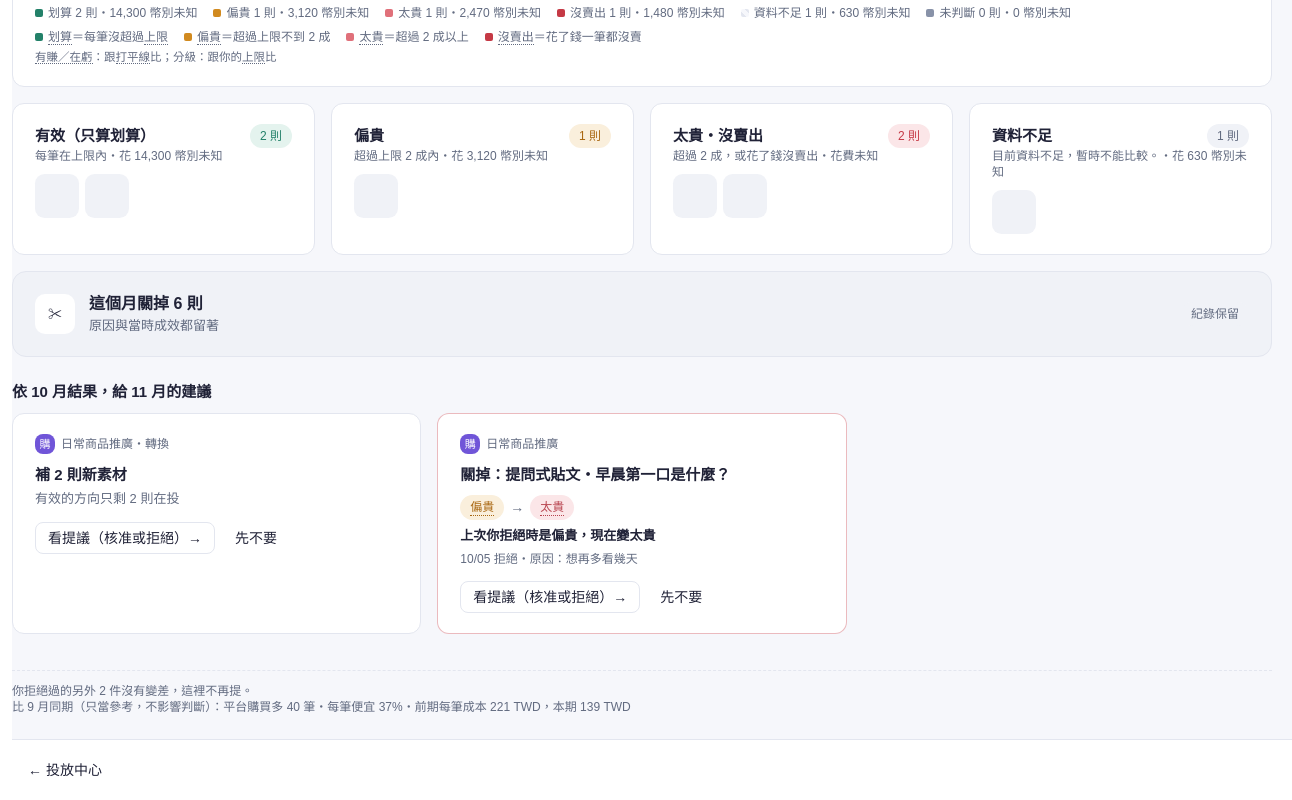
Test: MonthReviewPage — current month › a failed 先不要 on a rejected card keeps the card and says so
(page scrolled)
Click the button "先不要" below "10/05".
click(681, 598)  # box top-left (648, 582), bottom-right (714, 614)
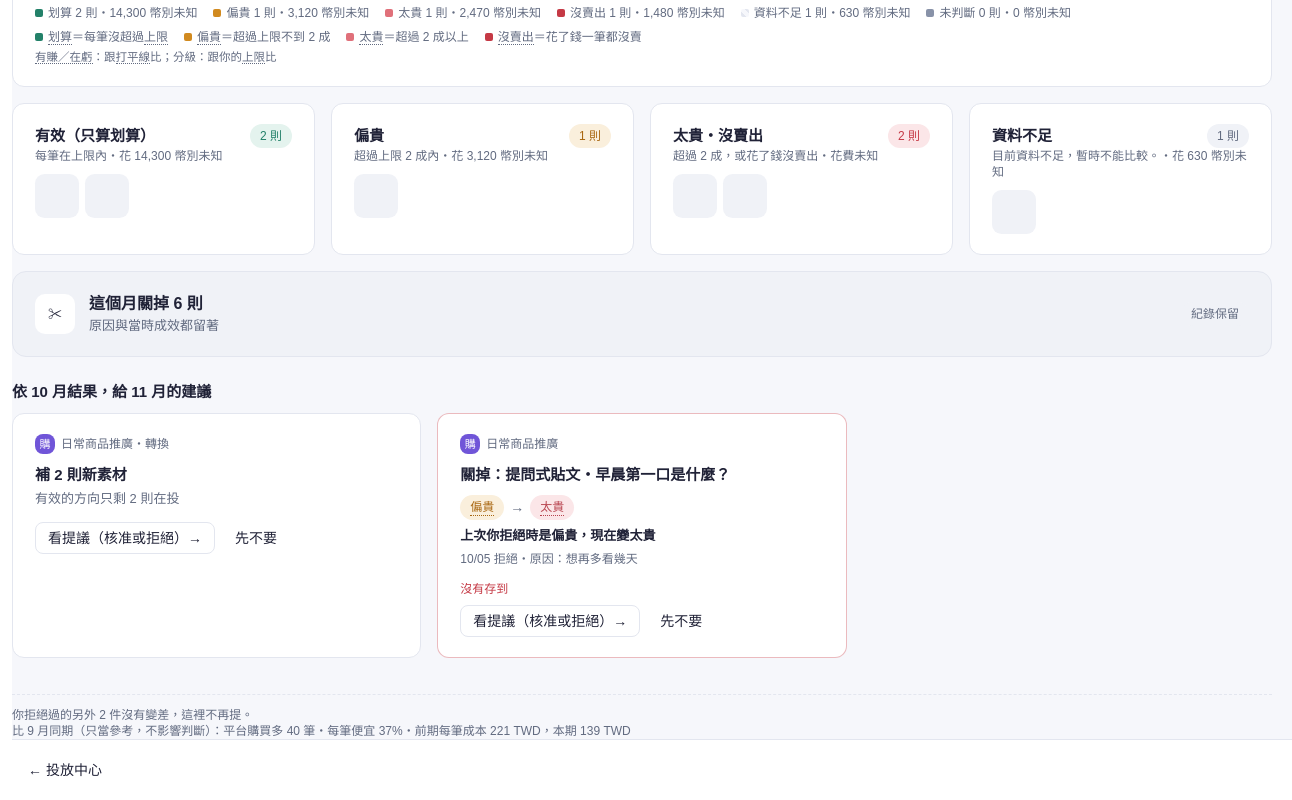
Check: the element "關掉：提問式貼文・早晨第一口是什麼？" is shown, box top-left (437, 414), bottom-right (847, 658)
Check: the text "沒有存到" is shown, box top-left (460, 582), bottom-right (508, 596)
